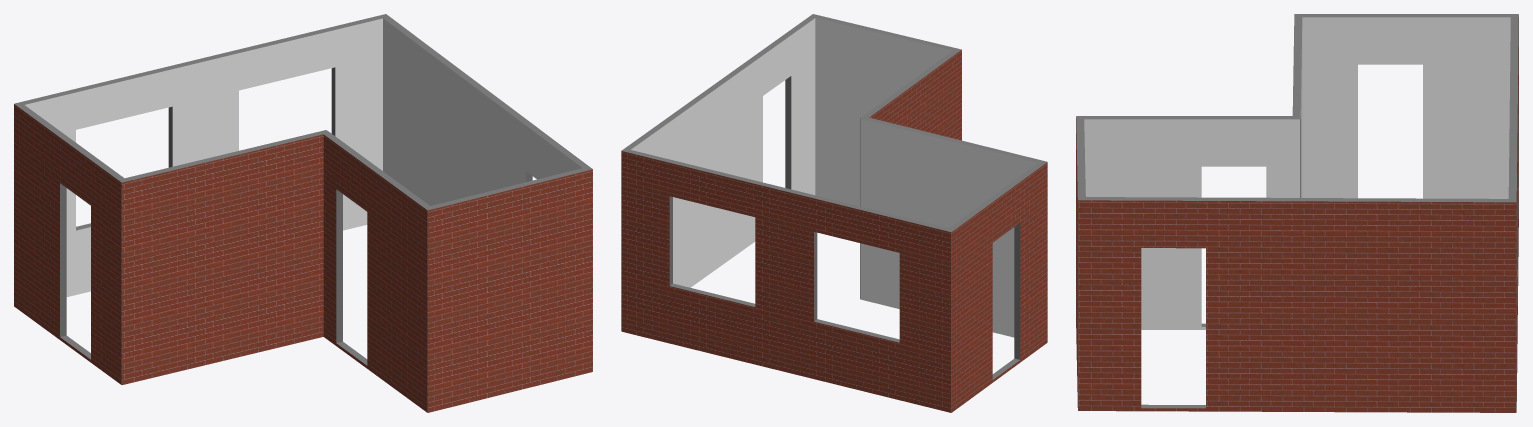
3 views of the same model, side by side, from view 1: azimuth 30°, elevation 25°; view 2: azimuth 150°, elevation 25°; view 3: azimuth 270°, elevation 25° (orthographic). The views are drawn at different scales.
Visible parts, largest first — view 1: WallOutside#0_1_4, WallOutside#0_1_2, WallInside#0_1_0, WallInside#0_1_1, WallOutside#0_1_5, WallOutside#0_1_3, WallOutside#0_1_0, WallInside#0_1_3, WallInside#0_1_5, WallOutside#0_1_1; view 2: WallOutside#0_1_0, WallInside#0_1_1, WallInside#0_1_4, WallOutside#0_1_5, WallInside#0_1_2, WallOutside#0_1_3, WallInside#0_1_0, WallOutside#0_1_1, WallInside#0_1_5, WallInside#0_1_3, WallOutside#0_1_4; view 3: WallOutside#0_1_1, WallInside#0_1_5, WallInside#0_1_3, WallOutside#0_1_0, WallInside#0_1_1, WallOutside#0_1_2, WallInside#0_1_4, WallInside#0_1_0, WallOutside#0_1_3, WallOutside#0_1_4, WallOutside#0_1_5, WallInside#0_1_2.
Part boxes in pixels (left/top/right/bottom): WallOutside#0_1_4: left=120, top=131, right=329, bottom=384; WallOutside#0_1_2: left=427, top=168, right=592, bottom=412; WallInside#0_1_0: left=16, top=15, right=388, bottom=296; WallInside#0_1_1: left=383, top=16, right=587, bottom=205; WallOutside#0_1_5: left=14, top=103, right=121, bottom=384; WallOutside#0_1_3: left=323, top=133, right=429, bottom=412; WallOutside#0_1_0: left=15, top=14, right=387, bottom=228; WallInside#0_1_3: left=324, top=130, right=433, bottom=361; WallInside#0_1_5: left=18, top=102, right=127, bottom=355; WallOutside#0_1_1: left=385, top=14, right=591, bottom=181; WallOutside#0_1_0: left=621, top=150, right=952, bottom=412; WallInside#0_1_1: left=625, top=15, right=818, bottom=287; WallInside#0_1_4: left=860, top=117, right=1045, bottom=337; WallOutside#0_1_5: left=949, top=161, right=1047, bottom=412; WallInside#0_1_2: left=811, top=16, right=959, bottom=206; WallOutside#0_1_3: left=864, top=49, right=961, bottom=140; WallInside#0_1_0: left=627, top=149, right=953, bottom=340; WallOutside#0_1_1: left=621, top=14, right=814, bottom=330; WallInside#0_1_5: left=946, top=163, right=1040, bottom=376; WallInside#0_1_3: left=860, top=48, right=957, bottom=298; WallOutside#0_1_4: left=862, top=117, right=1046, bottom=162; WallOutside#0_1_1: left=1078, top=198, right=1516, bottom=412; WallInside#0_1_5: left=1294, top=15, right=1514, bottom=198; WallInside#0_1_3: left=1076, top=117, right=1299, bottom=329; WallOutside#0_1_0: left=1512, top=14, right=1518, bottom=412; WallInside#0_1_1: left=1078, top=197, right=1515, bottom=406; WallOutside#0_1_2: left=1076, top=116, right=1081, bottom=410; WallInside#0_1_4: left=1296, top=14, right=1302, bottom=197; WallInside#0_1_0: left=1508, top=14, right=1514, bottom=202; WallOutside#0_1_3: left=1076, top=116, right=1299, bottom=324; WallOutside#0_1_4: left=1292, top=14, right=1297, bottom=115; WallOutside#0_1_5: left=1295, top=14, right=1517, bottom=15; WallInside#0_1_2: left=1080, top=116, right=1085, bottom=200.
Bounding box in the file's own units: 5.24 × 2.73 × 5.21.
18 materials, 12 textured.
